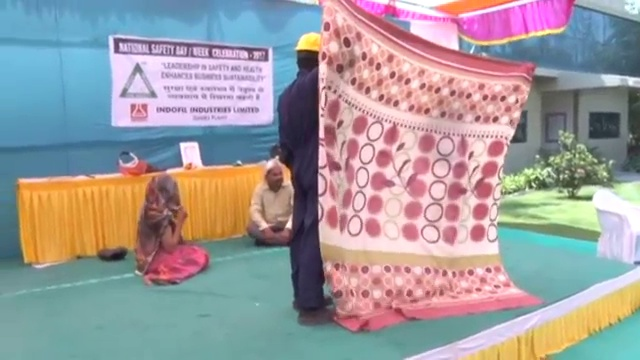helmet: (295, 31, 321, 50)
helmet_off: (150, 173, 178, 200), (266, 160, 284, 191)
helmet_on: (294, 32, 322, 75)
person: (276, 34, 337, 324), (135, 172, 204, 287), (241, 155, 296, 250)
